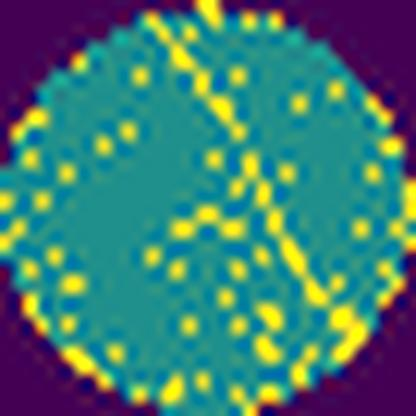Scratch: (227, 152, 334, 308), (139, 10, 246, 146)
